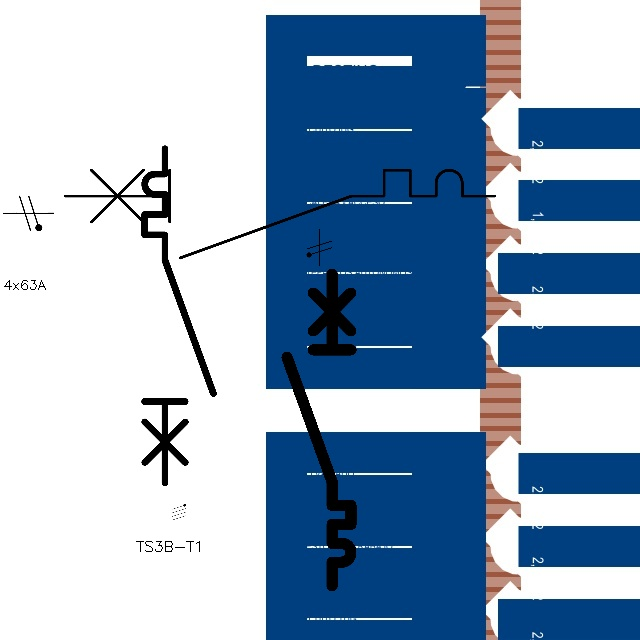interruptor_termomagnetico: (54, 159, 506, 269), (136, 140, 222, 491), (279, 266, 359, 593)
